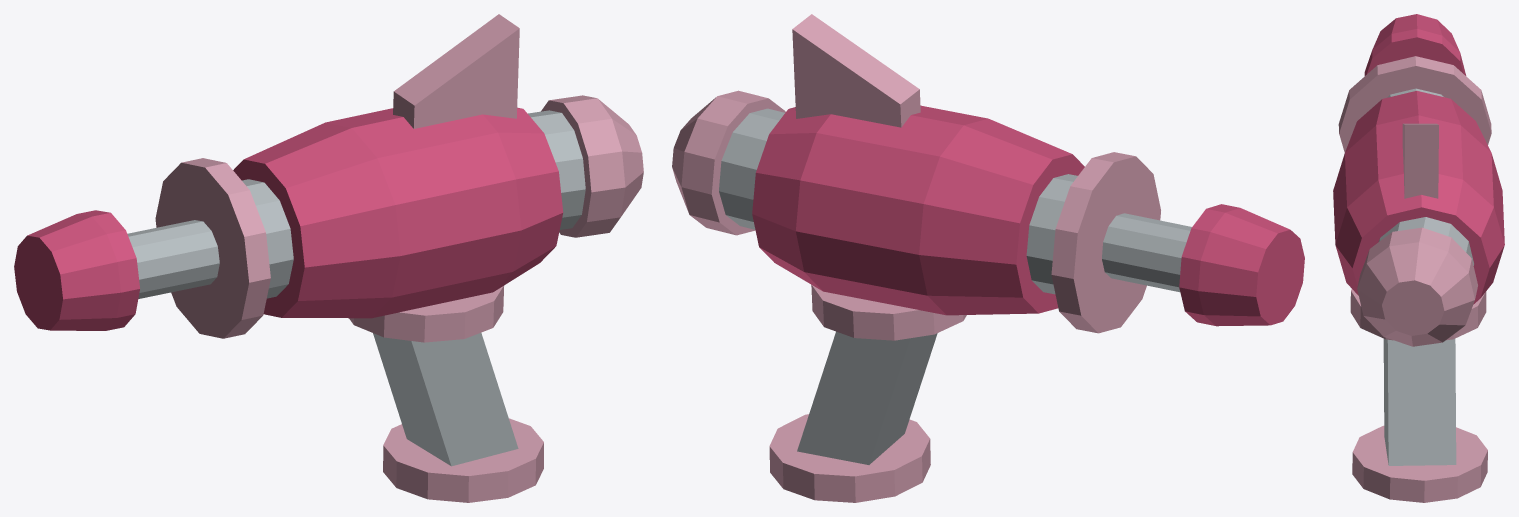
The model's file is laser.glb.
3 renders of one model, left to right at view 1: azimuth 30°, elevation 25°; view 2: azimuth 150°, elevation 25°; view 3: azimuth 270°, elevation 25°, orthographic. The views are drawn at different scales.
Parts seen in each view (by area): view 1: node_MeshObject1376591488-PolyPaper6; view 2: node_MeshObject1376591488-PolyPaper6; view 3: node_MeshObject1376591488-PolyPaper6.
Part boxes in pixels (x1=…): node_MeshObject1376591488-PolyPaper6: x1=14, y1=14, x2=643, y2=502; node_MeshObject1376591488-PolyPaper6: x1=672, y1=14, x2=1304, y2=502; node_MeshObject1376591488-PolyPaper6: x1=1333, y1=14, x2=1504, y2=502.
Bounding box in the file's own units: 0.2474 × 0.1747 × 0.0737.
